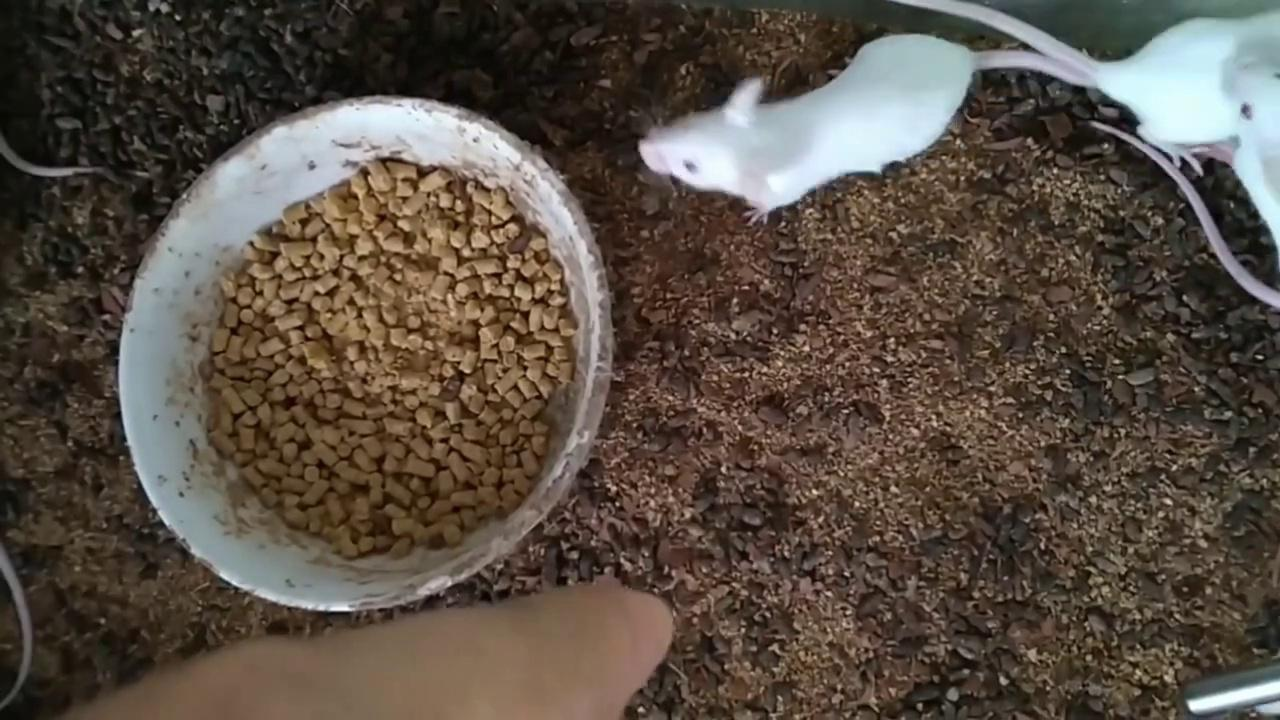rat: (636, 34, 1090, 228), (1219, 49, 1280, 214)
